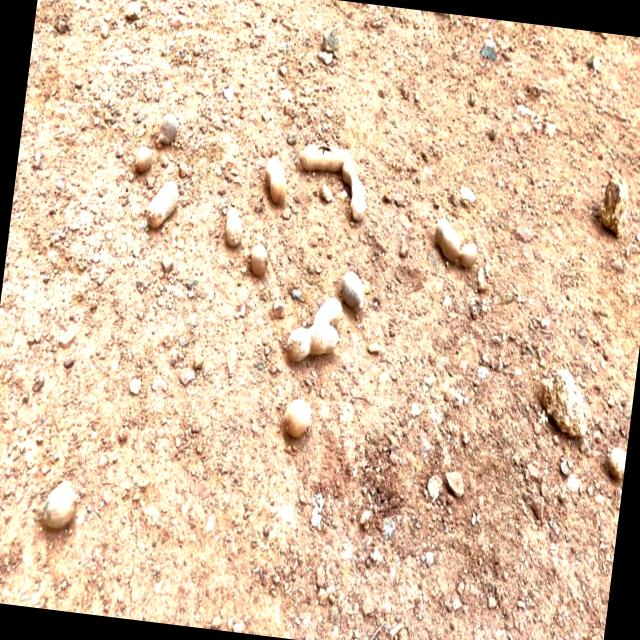tamarind: (274, 306, 346, 372), (424, 207, 486, 274), (31, 475, 89, 541), (340, 160, 382, 238), (136, 172, 184, 236), (250, 153, 298, 213), (294, 136, 354, 180), (332, 267, 377, 320), (280, 387, 320, 446), (241, 239, 282, 292), (216, 210, 249, 258), (126, 137, 159, 176)
